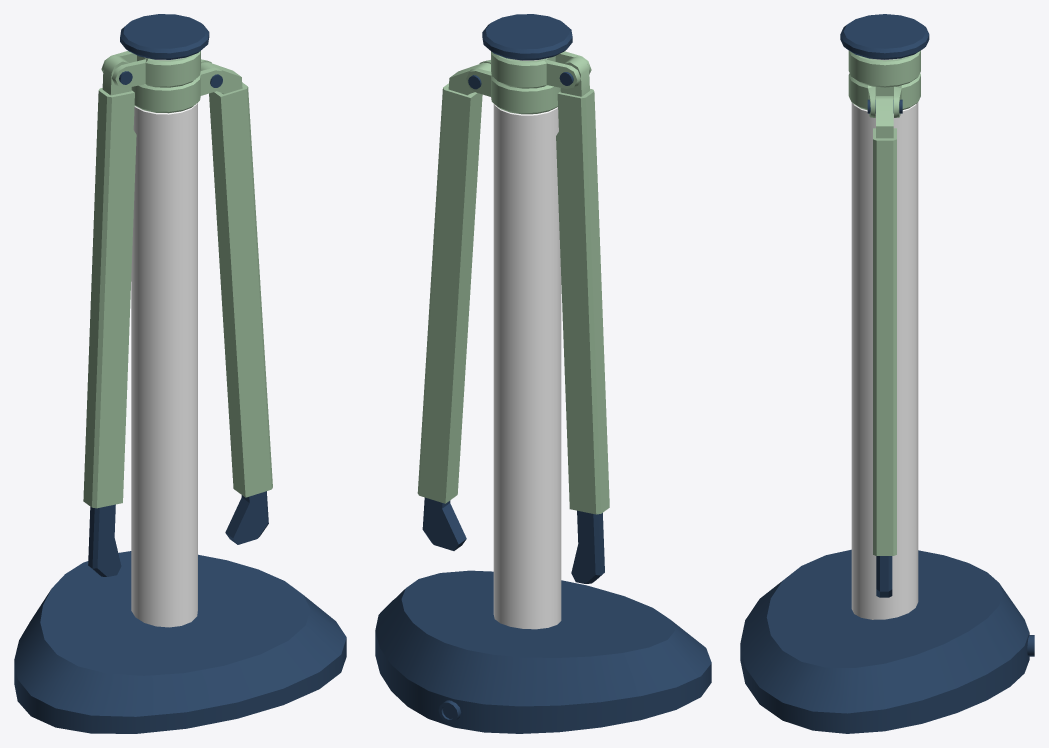
Rendered from Misc_CyberScreen_C.fbx.
3 views of the same model, side by side, from view 1: azimuth 30°, elevation 25°; view 2: azimuth 150°, elevation 25°; view 3: azimuth 270°, elevation 25° (orthographic). The views are drawn at different scales.
Parts seen in each view (by area): view 1: Misc_CyberScreen_C.001; view 2: Misc_CyberScreen_C.001; view 3: Misc_CyberScreen_C.001.
Boxes of the visible parts, x1,y1,x2,y2 form: Misc_CyberScreen_C.001: (14, 14, 346, 733); Misc_CyberScreen_C.001: (375, 14, 711, 733); Misc_CyberScreen_C.001: (740, 14, 1034, 733).
Size of the model in its own units: 0.1887 by 0.3747 by 0.159.
